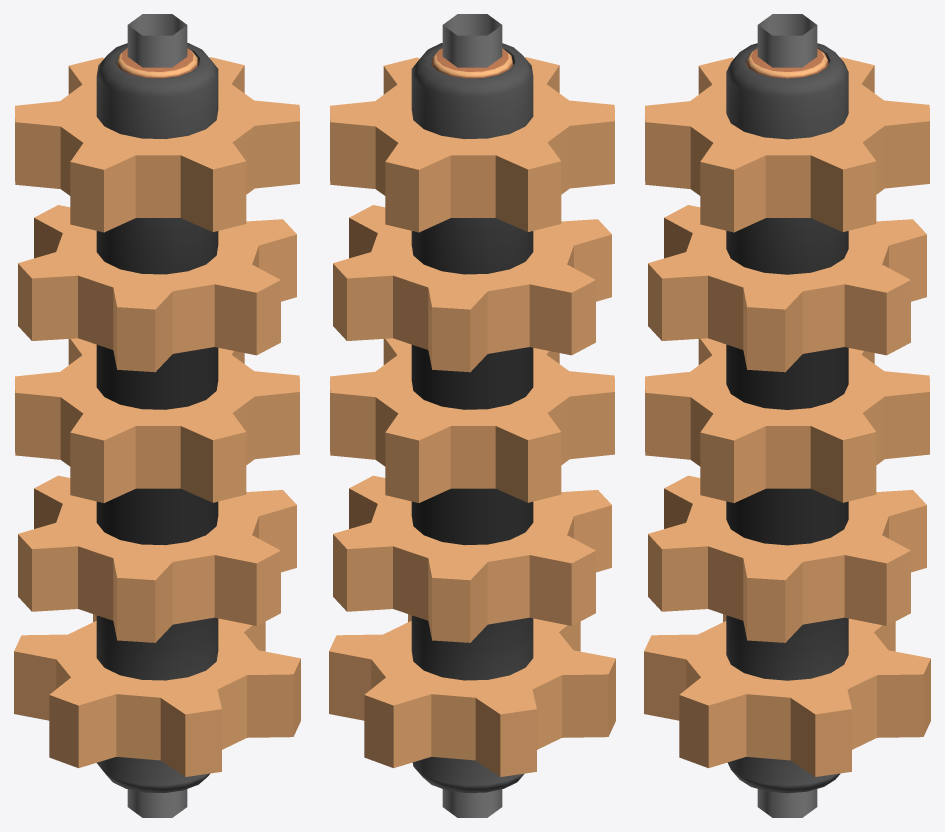
Rendered from obstacle_24_002.fbx.
3 renders of one model, left to right at view 1: azimuth 30°, elevation 25°; view 2: azimuth 150°, elevation 25°; view 3: azimuth 270°, elevation 25°, orthographic.
Parts seen in each view (by area): view 1: obstacle_24_002; view 2: obstacle_24_002; view 3: obstacle_24_002.
Boxes of the visible parts, x1,y1,x2,y2 form: obstacle_24_002: (14, 14, 300, 817); obstacle_24_002: (329, 14, 615, 817); obstacle_24_002: (644, 14, 930, 817).
Size of the model in its own units: 212 by 211 by 636.
